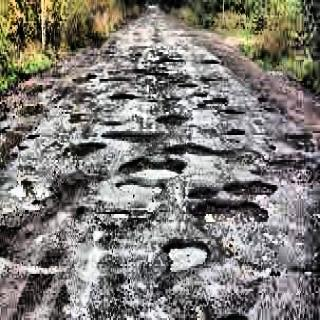pothole: (154, 240, 223, 301), (186, 205, 283, 235), (104, 178, 182, 204), (121, 154, 194, 180), (224, 176, 278, 200), (5, 178, 41, 214), (68, 138, 110, 168), (102, 210, 158, 230), (156, 110, 189, 138), (70, 61, 98, 94), (221, 123, 257, 147), (172, 68, 200, 97), (107, 86, 140, 109), (187, 182, 218, 204), (94, 112, 122, 136), (200, 97, 239, 114), (262, 131, 285, 158), (24, 115, 41, 144), (128, 45, 144, 72)
